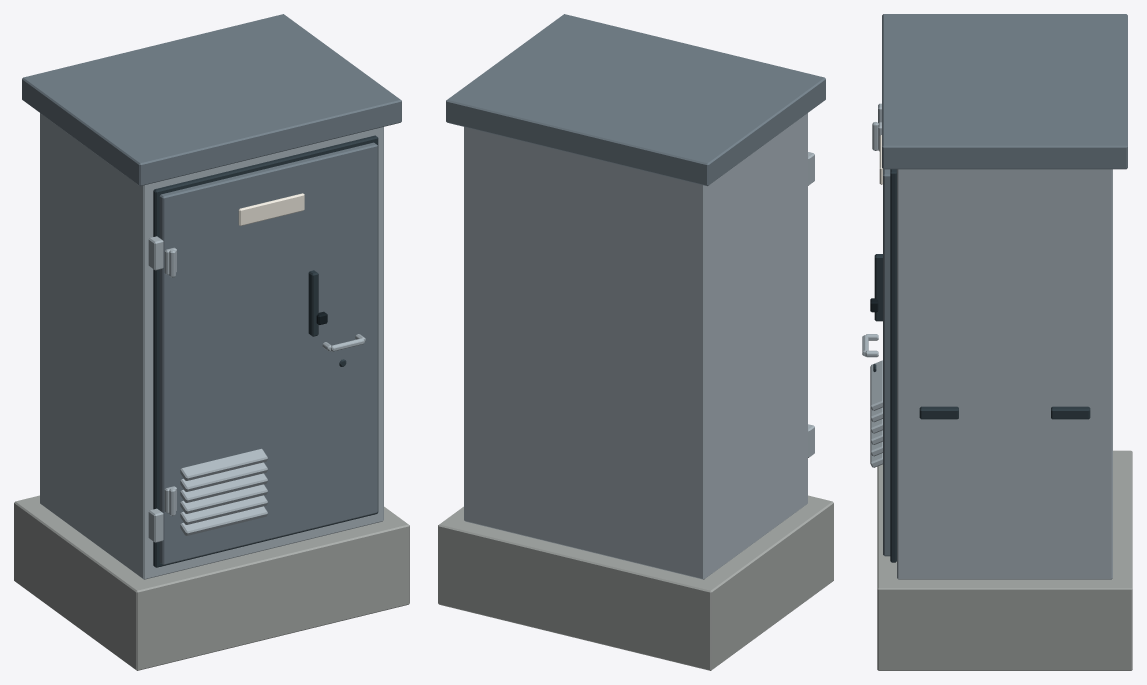
File: b05_traffic_signal_controller_cabinet.glb
The picture shows the model from 3 angles, left to right: view 1: azimuth 30°, elevation 25°; view 2: azimuth 150°, elevation 25°; view 3: azimuth 270°, elevation 25°; orthographic projection. The views are drawn at different scales.
Parts seen in each view (by area): view 1: b05_traffic_signal_controller_cabinet; view 2: b05_traffic_signal_controller_cabinet; view 3: b05_traffic_signal_controller_cabinet.
Part boxes in pixels (left/top/right/bottom): b05_traffic_signal_controller_cabinet: left=14, top=14, right=409, bottom=670; b05_traffic_signal_controller_cabinet: left=438, top=14, right=833, bottom=670; b05_traffic_signal_controller_cabinet: left=862, top=14, right=1132, bottom=670.
Bounding box in the file's own units: 1 × 1.76 × 0.8257.
